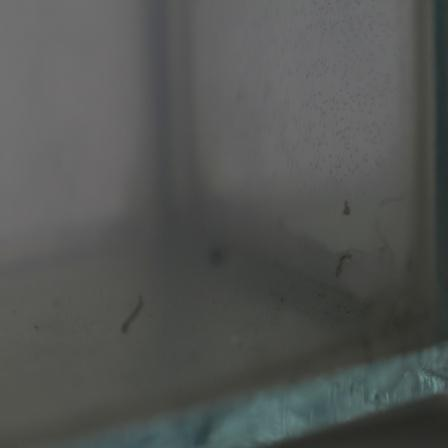Jentik-Nyamuk: (118, 292, 146, 337)
